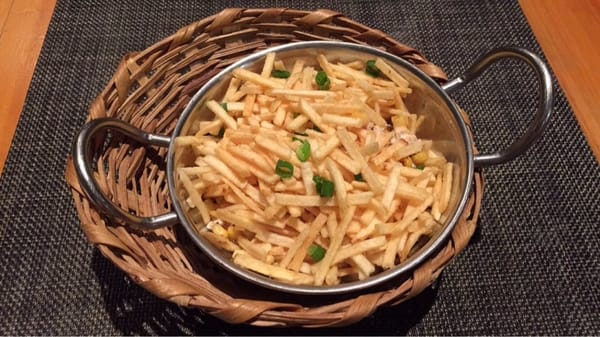sushi: (163, 25, 479, 315)
